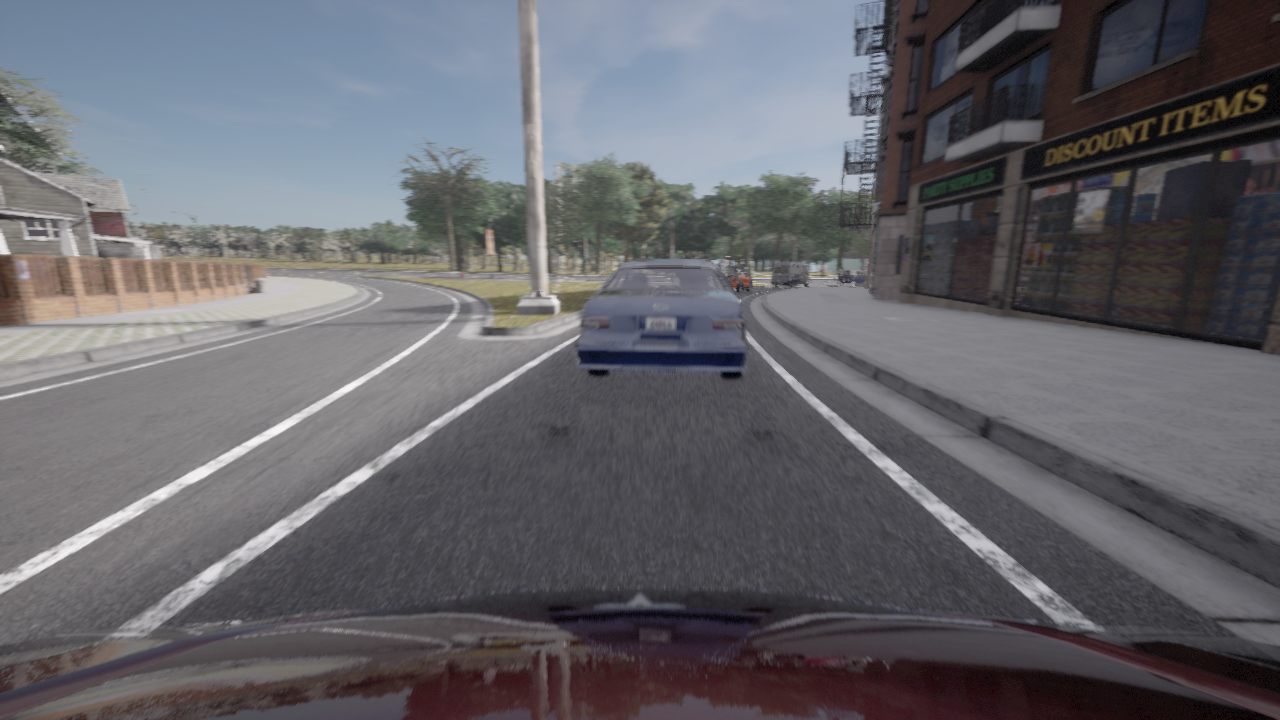cyclist: (0, 588, 1279, 719), (574, 259, 749, 378), (772, 261, 809, 287), (724, 267, 751, 292), (838, 270, 867, 285), (715, 265, 732, 288)
